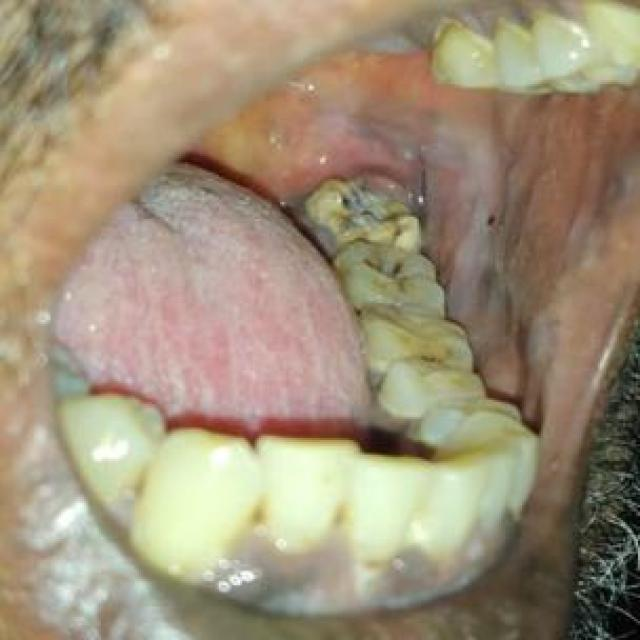leukoplakia-detection: (518, 158, 631, 369), (413, 118, 504, 317), (319, 98, 409, 154)
processing_area: (60, 35, 637, 429)
